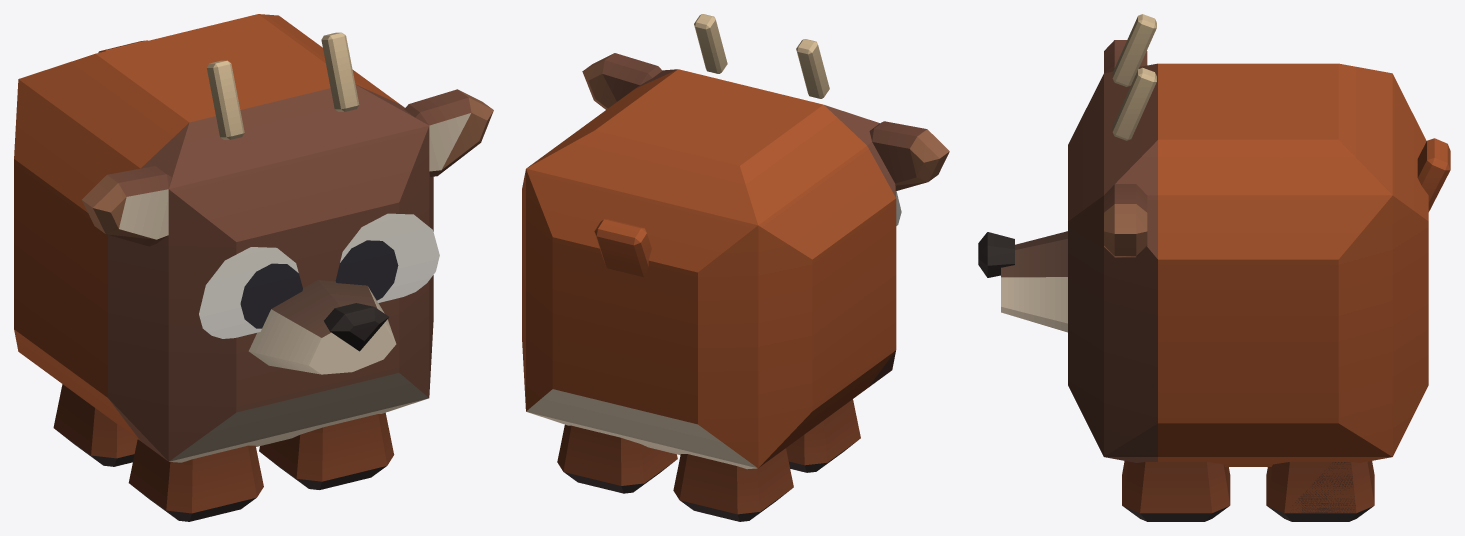
Rendered from veado.glb.
The picture shows the model from 3 angles, left to right: view 1: azimuth 30°, elevation 25°; view 2: azimuth 150°, elevation 25°; view 3: azimuth 270°, elevation 25°; orthographic projection. The views are drawn at different scales.
Visible parts, largest first — view 1: head, body, leg-front-right, leg-front-left, leg-back-right; view 2: body, head, leg-back-right, leg-back-left, leg-front-right; view 3: body, head, leg-front-left, leg-back-left.
Boxes of the visible parts, <box> form: head: <box>82,32,493,462</box>; body: <box>14,14,400,440</box>; leg-front-right: <box>128,439,263,521</box>; leg-front-left: <box>259,412,394,489</box>; leg-back-right: <box>53,384,137,466</box>; body: <box>522,69,896,469</box>; head: <box>582,14,949,387</box>; leg-back-right: <box>673,448,793,521</box>; leg-back-left: <box>557,424,677,493</box>; leg-front-right: <box>786,399,860,472</box>; body: <box>1158,63,1450,466</box>; head: <box>978,14,1157,462</box>; leg-front-left: <box>1122,461,1230,521</box>; leg-back-left: <box>1266,461,1374,521</box>.
Bounding box in the file's own units: 1.54 × 1.65 × 1.63.
Materials: 1 (1 with a texture image).
